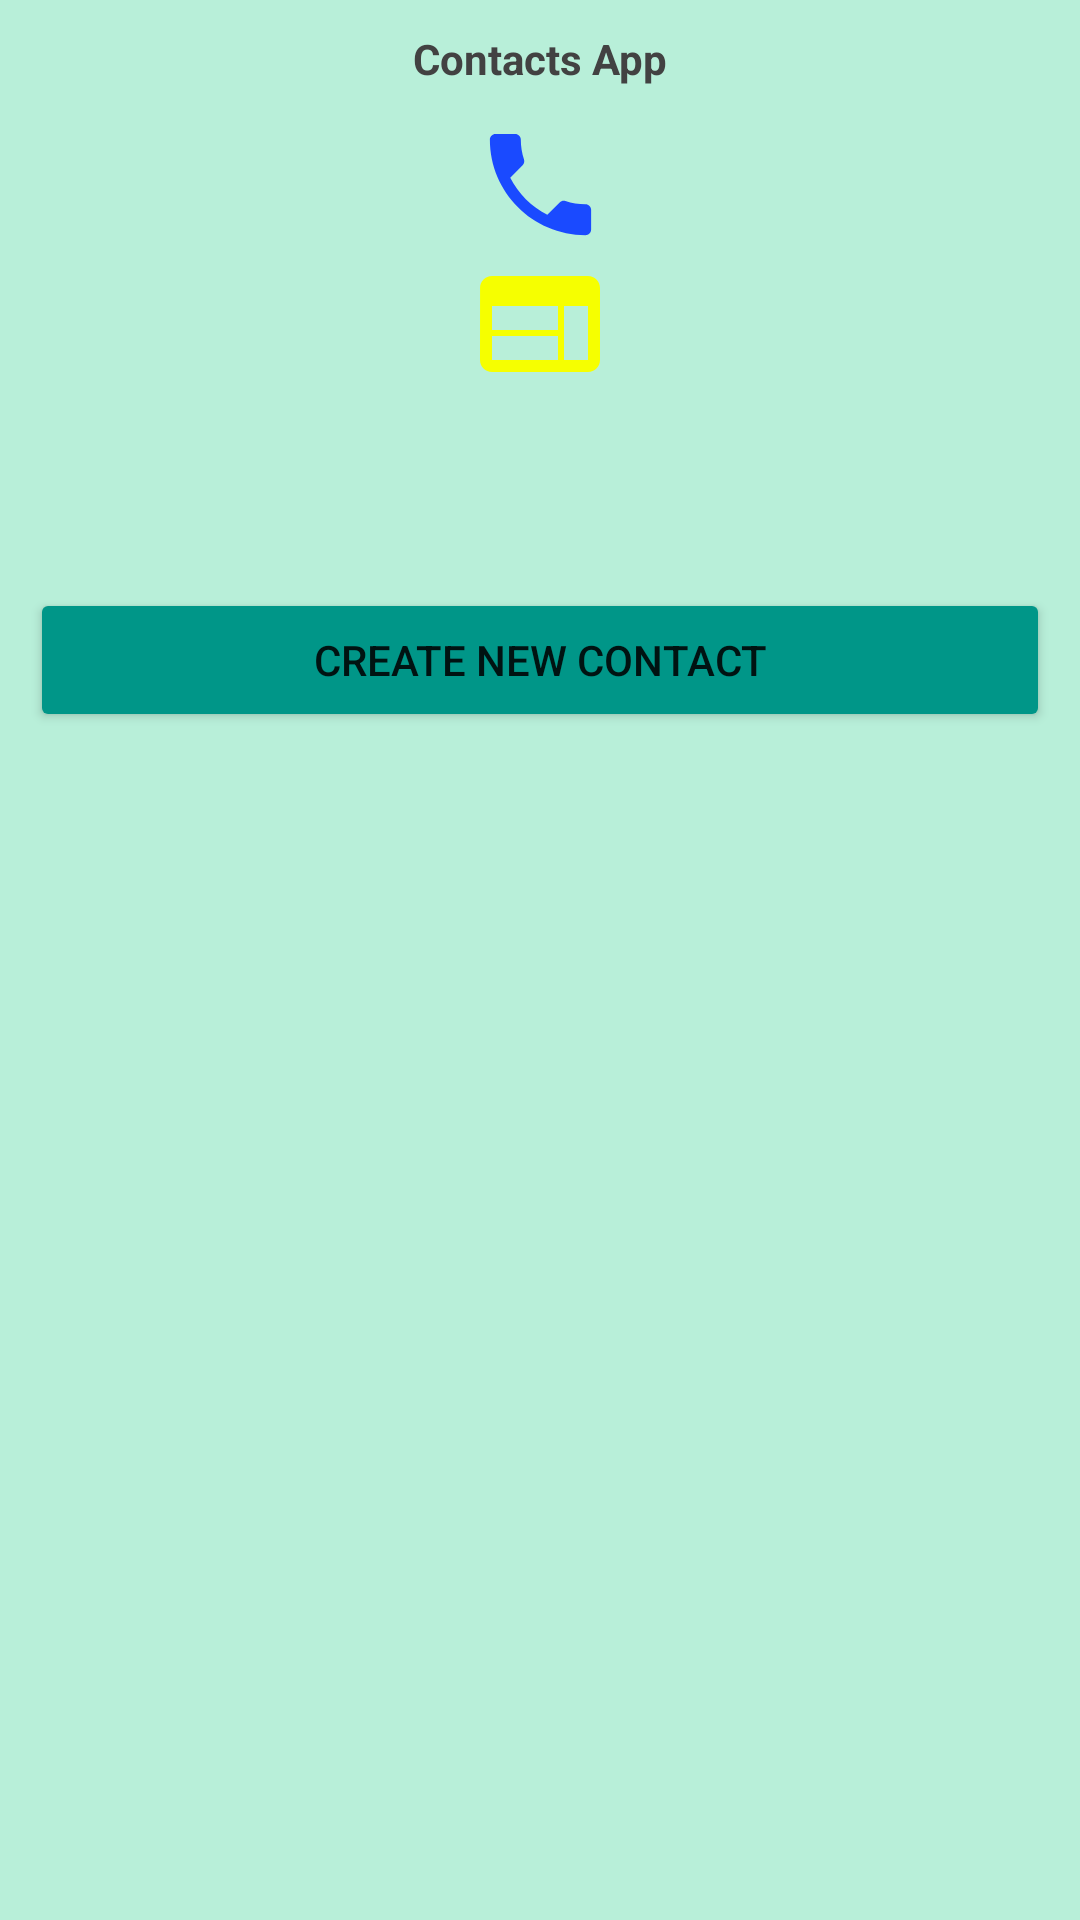

Named icons in this screenshot (1080 x 1920) and their bounding boxes, (x1, y1, x2, y2):
phone: (490, 134, 591, 236)
web: (480, 276, 600, 372)
